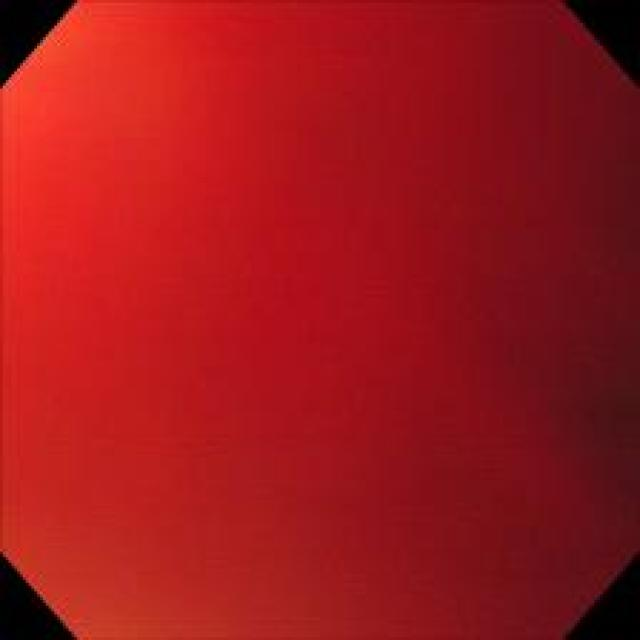color misalignment: (5, 10, 634, 632)
